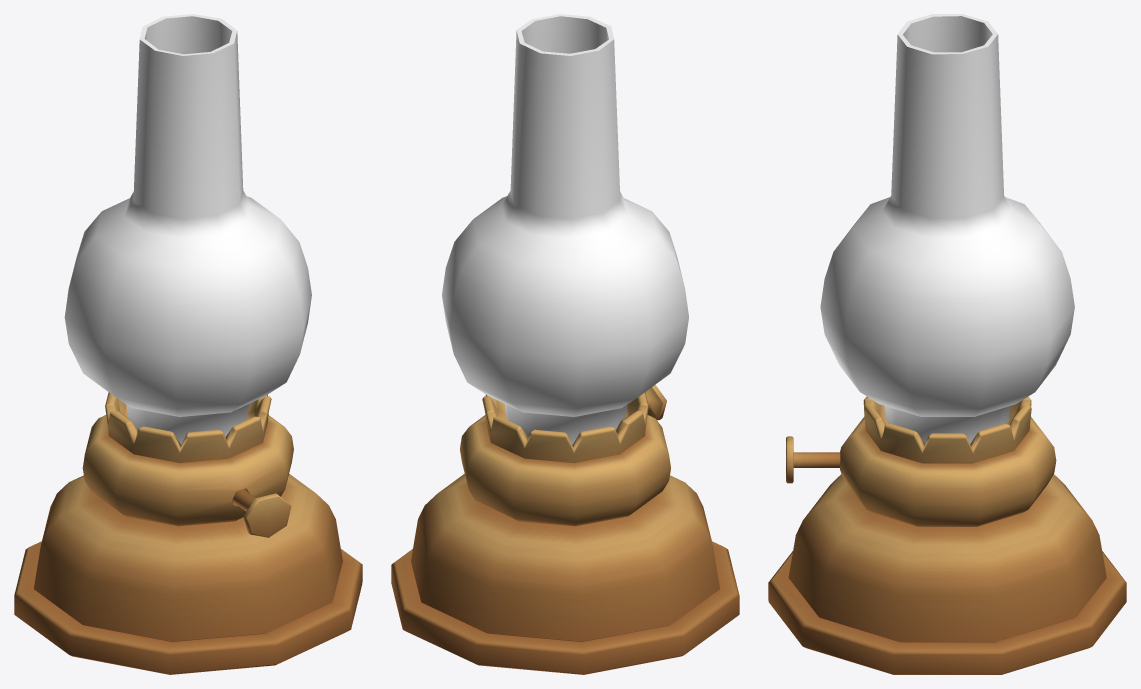
Rendered from CharSkyKid_Prop_AP24OilLamp.glb.
The picture shows the model from 3 angles, left to right: view 1: azimuth 30°, elevation 25°; view 2: azimuth 150°, elevation 25°; view 3: azimuth 270°, elevation 25°; orthographic projection.
Parts seen in each view (by area): view 1: CharSkyKid_Prop_AP24OilLamp; view 2: CharSkyKid_Prop_AP24OilLamp; view 3: CharSkyKid_Prop_AP24OilLamp.
Boxes of the visible parts, <box> form: CharSkyKid_Prop_AP24OilLamp: <box>14,14,362,674</box>; CharSkyKid_Prop_AP24OilLamp: <box>391,14,739,674</box>; CharSkyKid_Prop_AP24OilLamp: <box>768,14,1126,674</box>.
Size of the model in its own units: 0.2346 by 0.4334 by 0.2467.
Materials: 1 (1 with a texture image).
